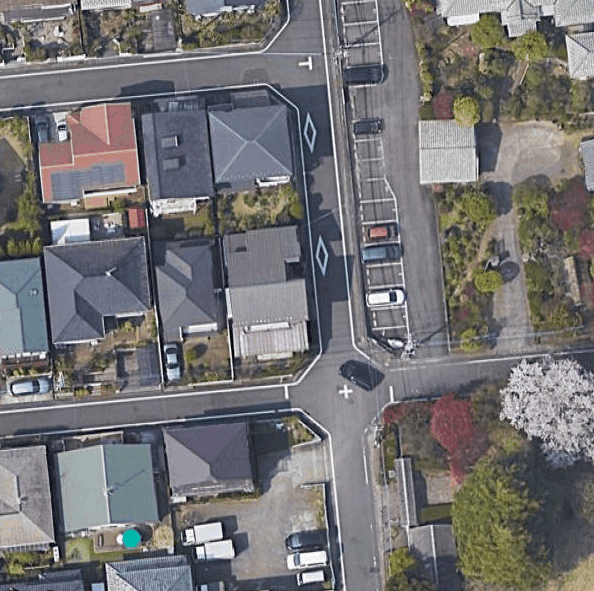parkinglot: (328, 11, 441, 351)
